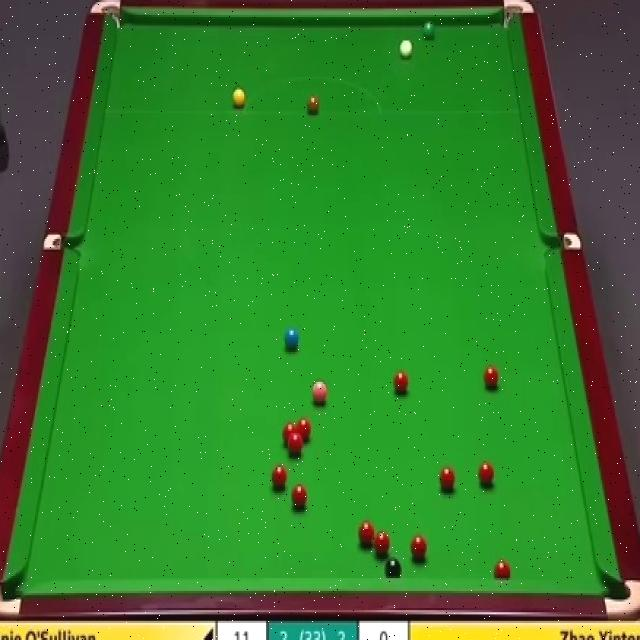black-ball: (382, 556, 401, 580)
blue-ball: (283, 327, 299, 353)
brown-ball: (305, 92, 320, 116)
green-ball: (420, 20, 437, 41)
pink-ball: (312, 376, 328, 405)
red-ball: (373, 528, 391, 562), (392, 368, 410, 398), (290, 486, 308, 516), (409, 534, 427, 563), (272, 462, 290, 490), (477, 460, 495, 487), (358, 520, 375, 548), (483, 364, 499, 391), (439, 466, 455, 492), (297, 418, 312, 444), (494, 558, 511, 580), (283, 422, 296, 444), (288, 436, 302, 456)
white-ball: (398, 38, 414, 62)
yellow-ball: (230, 86, 245, 108)
